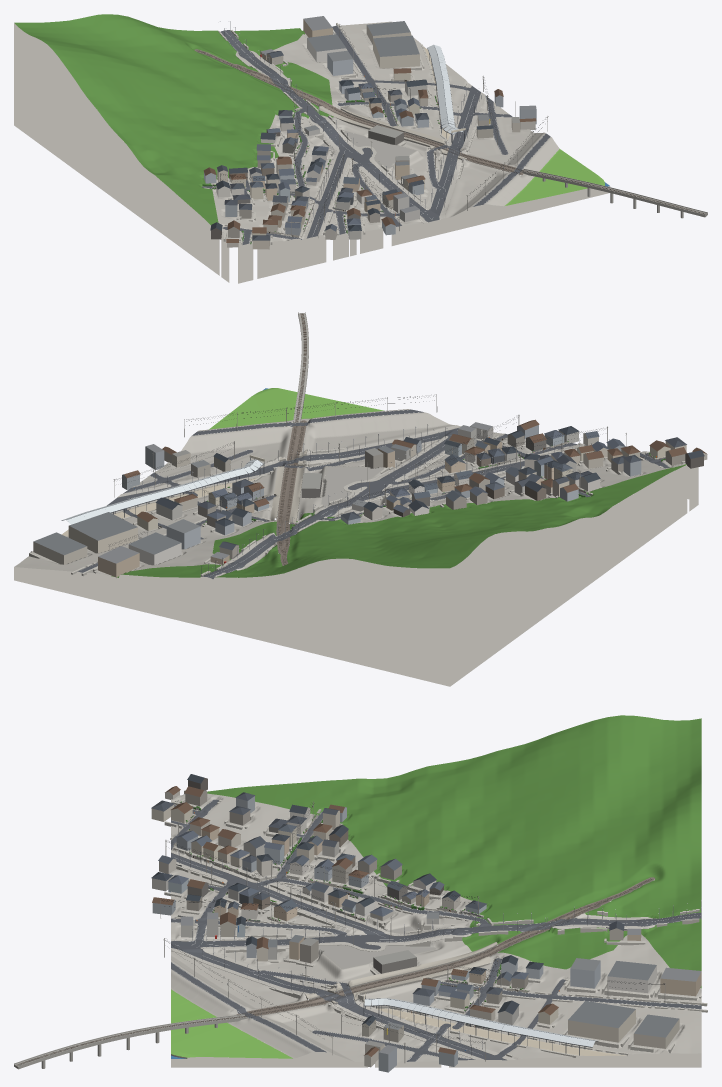
File: riverside.glb
3 renders of one model, top to bottom at view 1: azimuth 30°, elevation 25°; view 2: azimuth 150°, elevation 25°; view 3: azimuth 270°, elevation 25°, orthographic. The views are drawn at different scales.
Visible parts, largest first — view 1: ground, wood, marks, road, walk, green, rail, paved, platform, curb; view 2: ground, marks, wood, road, green, walk, rail, paved, platform, curb, path; view 3: wood, marks, ground, road, walk, green, rail, curb, path, paved, platform.
Boxes of the visible parts, <box> form: ground: <box>14,21,610,283</box>; wood: <box>14,14,333,225</box>; marks: <box>197,16,707,249</box>; road: <box>202,25,550,244</box>; walk: <box>235,50,485,239</box>; green: <box>505,149,604,205</box>; rail: <box>194,49,523,174</box>; paved: <box>320,131,416,169</box>; platform: <box>318,106,466,159</box>; curb: <box>198,50,522,210</box>; ground: <box>14,409,698,686</box>; marks: <box>29,312,707,577</box>; wood: <box>111,464,686,577</box>; road: <box>77,409,669,578</box>; green: <box>209,388,384,429</box>; walk: <box>106,425,576,570</box>; rail: <box>276,420,306,565</box>; paved: <box>321,466,383,506</box>; platform: <box>270,449,306,523</box>; curb: <box>118,422,550,570</box>; path: <box>62,478,256,536</box>; wood: <box>207,715,701,988</box>; marks: <box>14,774,707,1072</box>; ground: <box>171,715,701,1067</box>; road: <box>171,799,701,1061</box>; walk: <box>171,850,655,1059</box>; green: <box>171,989,292,1058</box>; rail: <box>236,877,655,1015</box>; curb: <box>171,852,655,1059</box>; path: <box>376,1008,625,1055</box>; paved: <box>318,926,435,969</box>; platform: <box>306,942,497,1002</box>.
Size of the model in its own units: 337 by 79.88 by 393.
